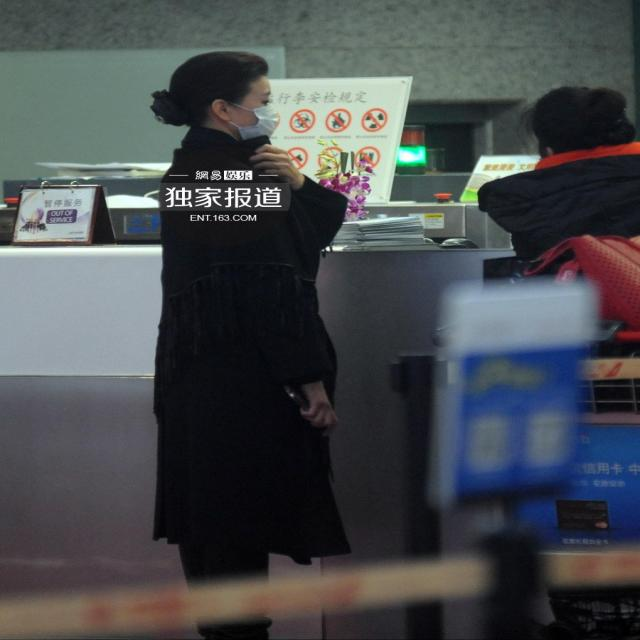mask: (230, 72, 275, 140)
